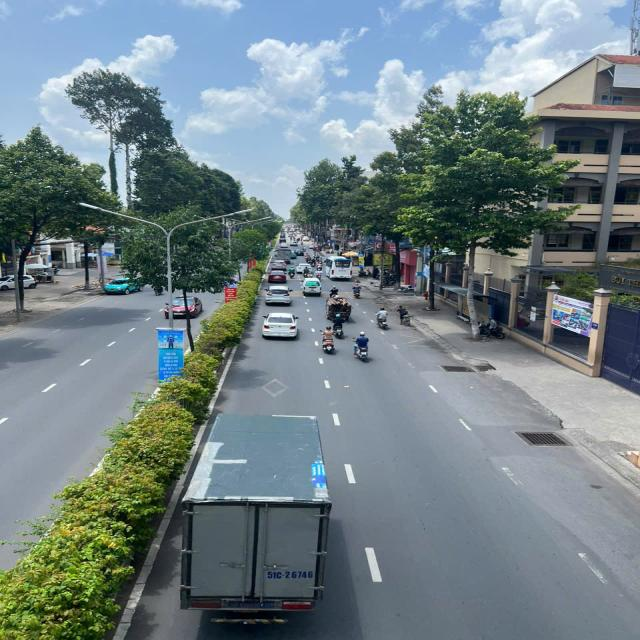ben: (168, 404, 365, 632)
car: (260, 308, 303, 344), (163, 290, 206, 322), (102, 273, 146, 296), (260, 282, 296, 308), (323, 253, 355, 282), (299, 276, 325, 298), (266, 266, 291, 286), (295, 260, 314, 276), (270, 257, 289, 271)
motobyte: (349, 330, 380, 364), (318, 325, 341, 357), (369, 305, 394, 333), (328, 312, 349, 338), (351, 280, 366, 300), (327, 283, 342, 301)
